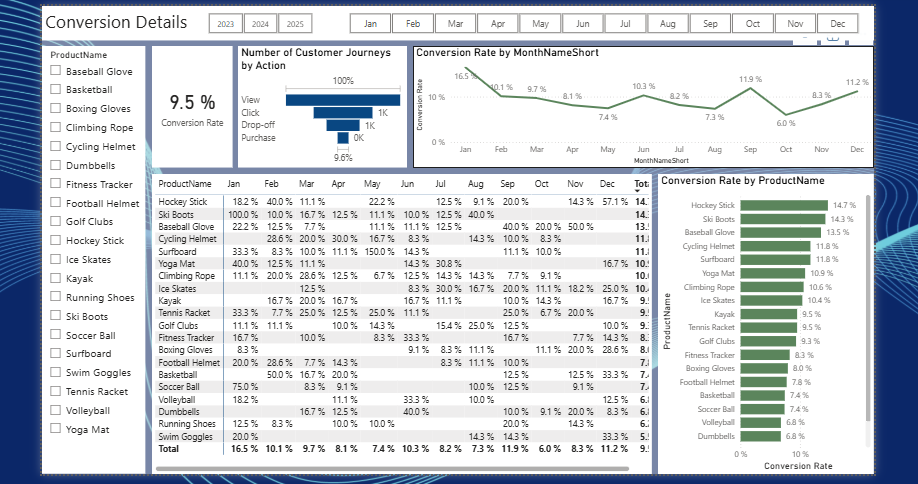

Layout of this report page (visuals, bound fields, positions):
{"tool":"powerbi","page":{"name":"Conversion Details","canvas":[1280,720],"ordinal":1},"visuals":[{"type":"textbox","box":[0,0,1280,52.6],"z":0},{"type":"slicer","fields":{"Values":["dim_products.ProductName"]},"box":[0,61.9,159.4,658.4],"z":1000},{"type":"card","fields":{"Values":["_Calculations.Conversion Rate"]},"box":[168.5,61.9,123.8,186.7],"z":2000},{"type":"lineChart","fields":{"Y":["_Calculations.Conversion Rate"],"Category":["Calendar.MonthNameShort"]},"box":[570.1,61.9,710.3,186.7],"z":3000},{"type":"clusteredBarChart","fields":{"Category":["dim_products.ProductName"],"Y":["_Calculations.Conversion Rate"]},"box":[948,257.7,332.4,462.6],"z":4000},{"type":"slicer","fields":{"Values":["Calendar.Year"]},"box":[230.2,4.1,208.5,44.4],"z":5000},{"type":"slicer","fields":{"Values":["Calendar.MonthNameShort"]},"box":[448,4.6,832.3,43.7],"z":6000},{"type":"pivotTable","fields":{"Rows":["dim_products.ProductName"],"Values":["_Calculations.Conversion Rate"],"Columns":["Calendar.MonthNameShort"]},"box":[168.5,257.7,768.6,462.6],"z":7000},{"type":"funnel","fields":{"Category":["fact_customer_journey.Action"],"Y":["_Calculations.Number of Customer Journeys"]},"box":[301.4,61.9,259.5,186.7],"z":8000}]}

Visuals, with their boxes on the page's 1280x720 design canvas (x1, y1, x2, y2). These are canvas units, not pixel positions in the 918x484 screenshot, which may show the page scaled, cropped or inside an application window:
textbox: bbox=[0, 0, 1280, 53]
slicer - dim_products.ProductName: bbox=[0, 62, 159, 720]
card - _Calculations.Conversion Rate: bbox=[168, 62, 292, 249]
lineChart - _Calculations.Conversion Rate x Calendar.MonthNameShort: bbox=[570, 62, 1280, 249]
clusteredBarChart - dim_products.ProductName x _Calculations.Conversion Rate: bbox=[948, 258, 1280, 720]
slicer - Calendar.Year: bbox=[230, 4, 439, 48]
slicer - Calendar.MonthNameShort: bbox=[448, 5, 1280, 48]
pivotTable - dim_products.ProductName x _Calculations.Conversion Rate: bbox=[168, 258, 937, 720]
funnel - fact_customer_journey.Action x _Calculations.Number of Customer Journeys: bbox=[301, 62, 561, 249]
